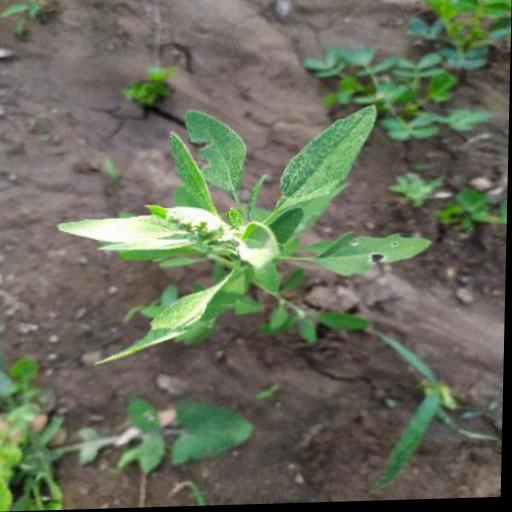weed: (71, 114, 430, 381)
